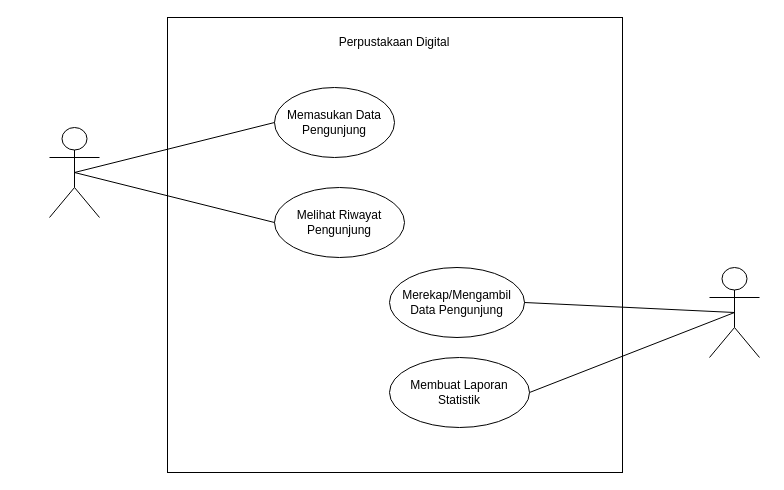
This 784x490 diagram has some shape labels left out. The shapes that lost their labels are listed below. From the top down, each one's box as (x1, y1, x2, y2) in pixels, then its label:
(48, 126, 100, 218): Anggota(pengunjung)
(708, 266, 760, 358): Pustakawan
